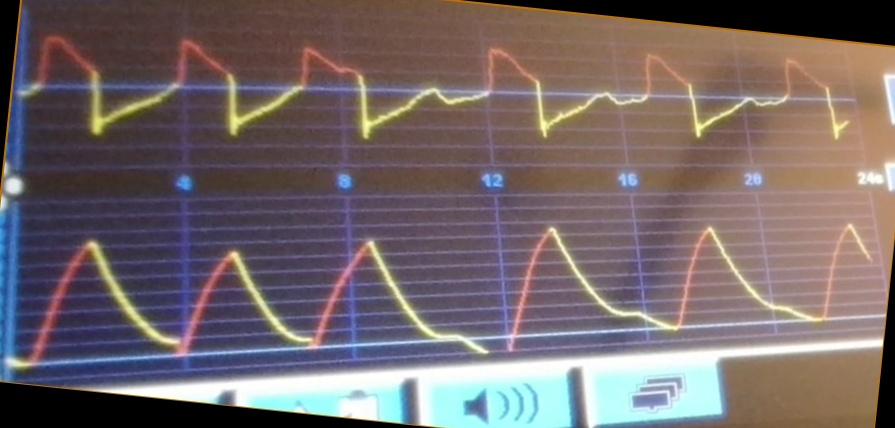Ineffective_effort Flow: (28, 30, 850, 154)
Ineffective_effort Volume: (17, 215, 869, 359)
